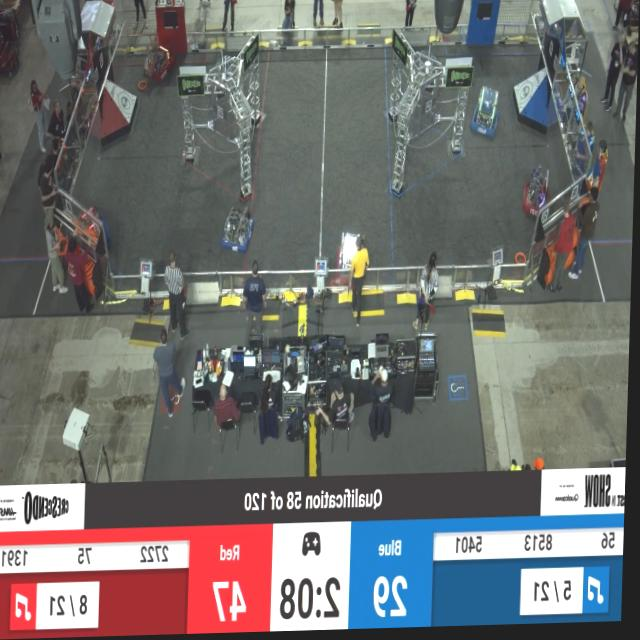Robot: (332, 223, 374, 297), (70, 202, 115, 262), (141, 37, 179, 90), (223, 204, 259, 258), (469, 87, 500, 143), (522, 168, 550, 223)
